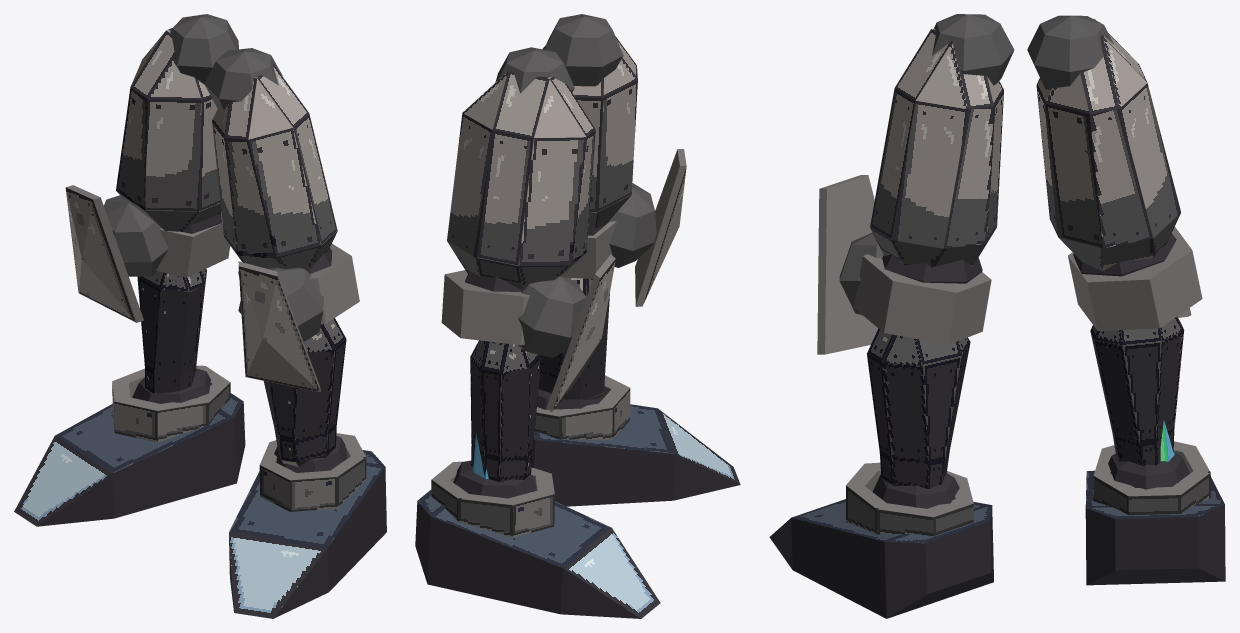
File: StandardLegs.gltf
The picture shows the model from 3 angles, left to right: view 1: azimuth 30°, elevation 25°; view 2: azimuth 150°, elevation 25°; view 3: azimuth 270°, elevation 25°; orthographic projection. The views are drawn at different scales.
Parts seen in each view (by area): view 1: cuboid (×2), UpperLegGuard (×2), HeavyLowerLegGuard (×2), pyramid (×2), tube (×2), HipJoint (×2), sphere (×2), Brace (×2), Ankle (×2); view 2: UpperLegGuard (×2), cuboid (×2), HeavyLowerLegGuard (×2), tube (×2), sphere (×2), pyramid (×2), Brace (×2), HipJoint (×2), Ankle (×2), KneeJoint; view 3: UpperLegGuard (×2), cuboid (×2), HeavyLowerLegGuard (×2), Brace (×2), tube (×2), HipJoint (×2), pyramid, Ankle (×2), KneeJoint (×2), sphere.
Boxes of the visible parts, x1,y1,x2,y2 form: cuboid (×2): [14, 393, 386, 618]; UpperLegGuard (×2): [116, 28, 337, 270]; HeavyLowerLegGuard (×2): [137, 269, 346, 466]; pyramid (×2): [65, 185, 320, 392]; tube (×2): [112, 365, 366, 511]; HipJoint (×2): [170, 14, 282, 109]; sphere (×2): [104, 195, 323, 341]; Brace (×2): [156, 211, 359, 324]; Ankle (×2): [132, 368, 347, 472]; UpperLegGuard (×2): [447, 36, 637, 290]; cuboid (×2): [415, 404, 740, 618]; HeavyLowerLegGuard (×2): [470, 277, 609, 482]; tube (×2): [431, 375, 630, 537]; sphere (×2): [518, 183, 656, 357]; pyramid (×2): [546, 149, 686, 411]; Brace (×2): [441, 221, 616, 345]; HipJoint (×2): [495, 14, 623, 93]; Ankle (×2): [453, 389, 602, 498]; KneeJoint: [465, 272, 522, 291]; UpperLegGuard (×2): [870, 18, 1180, 271]; cuboid (×2): [769, 470, 1225, 618]; HeavyLowerLegGuard (×2): [867, 316, 1184, 488]; Brace (×2): [854, 226, 1202, 344]; tube (×2): [846, 441, 1210, 536]; HipJoint (×2): [932, 14, 1113, 89]; pyramid: [817, 175, 878, 354]; Ankle (×2): [872, 453, 1189, 508]; KneeJoint (×2): [882, 233, 1176, 283]; sphere: [839, 232, 883, 315].
Bounding box in the file's own units: 0.7446 × 1.37 × 1.02.
Materials: 1 (1 with a texture image).
